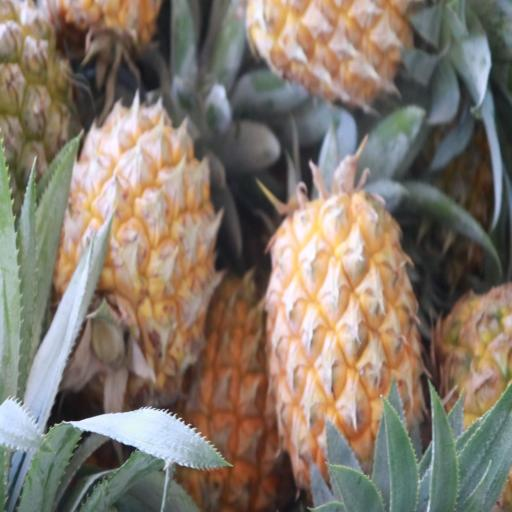Pineapple - v8 v1: (273, 203, 425, 512), (63, 106, 214, 395), (176, 276, 289, 512)
